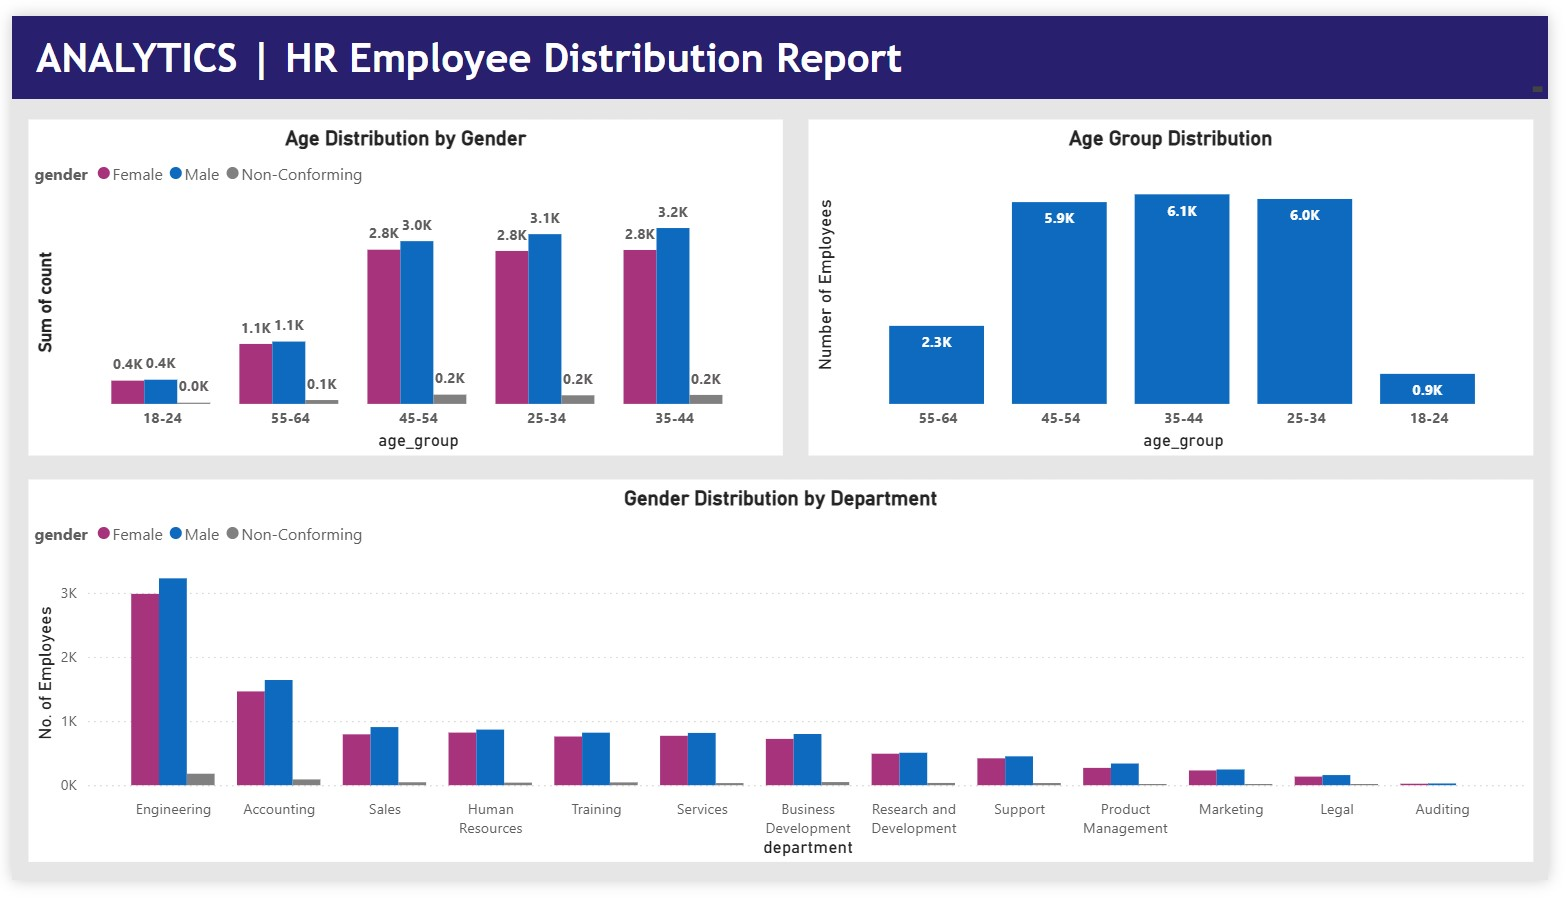

The dashboard page shown, as its layout file describes it:
{"tool":"powerbi","page":{"name":"Page 2","canvas":[1280,720],"ordinal":1},"visuals":[{"type":"columnChart","title":"Age Group Distribution","fields":{"Category":["age_group.age_group"],"Y":["Sum(age_group.count)"]},"box":[663.8,86.2,603.8,280],"z":0},{"type":"clusteredColumnChart","title":"Age Distribution by Gender","fields":{"Category":["age_group_gender.age_group"],"Y":["Sum(age_group_gender.count)"],"Series":["age_group_gender.gender"]},"box":[14.3,85.7,628.6,280],"z":1000},{"type":"clusteredColumnChart","title":"Gender Distribution by Department","fields":{"Category":["gender_depts.department"],"Y":["Sum(gender_depts.count)"],"Series":["gender_depts.gender"]},"box":[13.8,386.2,1253.8,318.8],"z":2000},{"type":"textbox","title":"ANALYTICS | HR Employee Distribution Report","box":[0,0,1280,68.6],"z":3000}]}

Visuals, with their boxes in screenshot pixels (x1, y1, x2, y2), scaled from the page's 1280x720 canvas onto the 1567x903 screenshot:
"Age Group Distribution" columnChart: left=813, top=108, right=1552, bottom=459
"Age Distribution by Gender" clusteredColumnChart: left=18, top=107, right=787, bottom=459
"Gender Distribution by Department" clusteredColumnChart: left=17, top=484, right=1552, bottom=884
"ANALYTICS | HR Employee Distribution Report" textbox: left=0, top=0, right=1566, bottom=86
